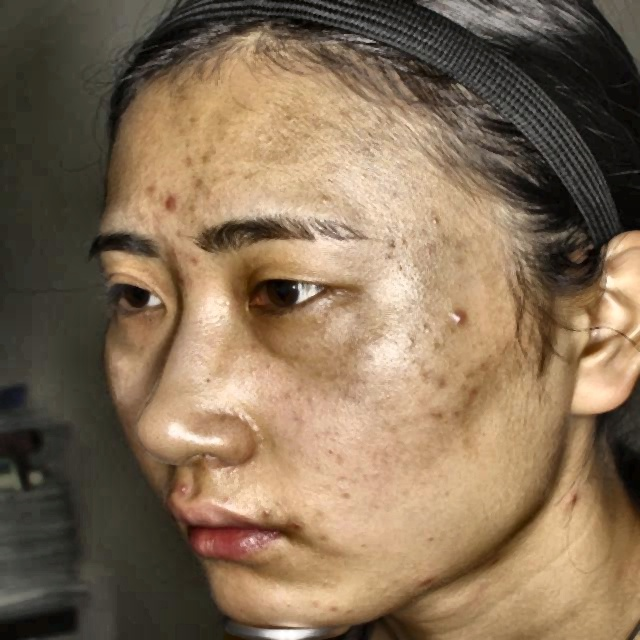comedone: (427, 303, 474, 335), (559, 479, 591, 513), (157, 188, 186, 218), (167, 480, 189, 505), (419, 568, 436, 592)
